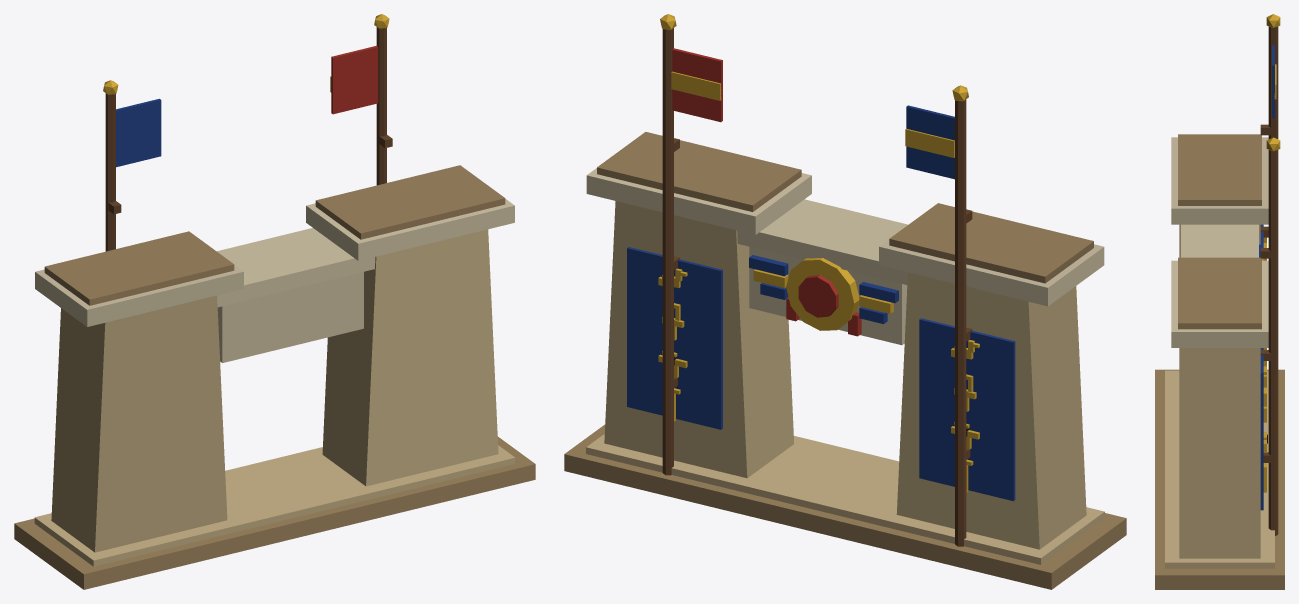
File: Decor_PharaohPyramid_Pylon.fbx
The picture shows the model from 3 angles, left to right: view 1: azimuth 30°, elevation 25°; view 2: azimuth 150°, elevation 25°; view 3: azimuth 270°, elevation 25°; orthographic projection. The views are drawn at different scales.
Visible parts, largest first — view 1: Pylon_Body; view 2: Pylon_Body; view 3: Pylon_Body.
Part boxes in pixels (x1,y1,x2,y2): Pylon_Body: [14, 14, 535, 589]; Pylon_Body: [564, 14, 1126, 589]; Pylon_Body: [1155, 14, 1284, 589].
Bounding box in the file's own units: 30 × 28 × 8.
